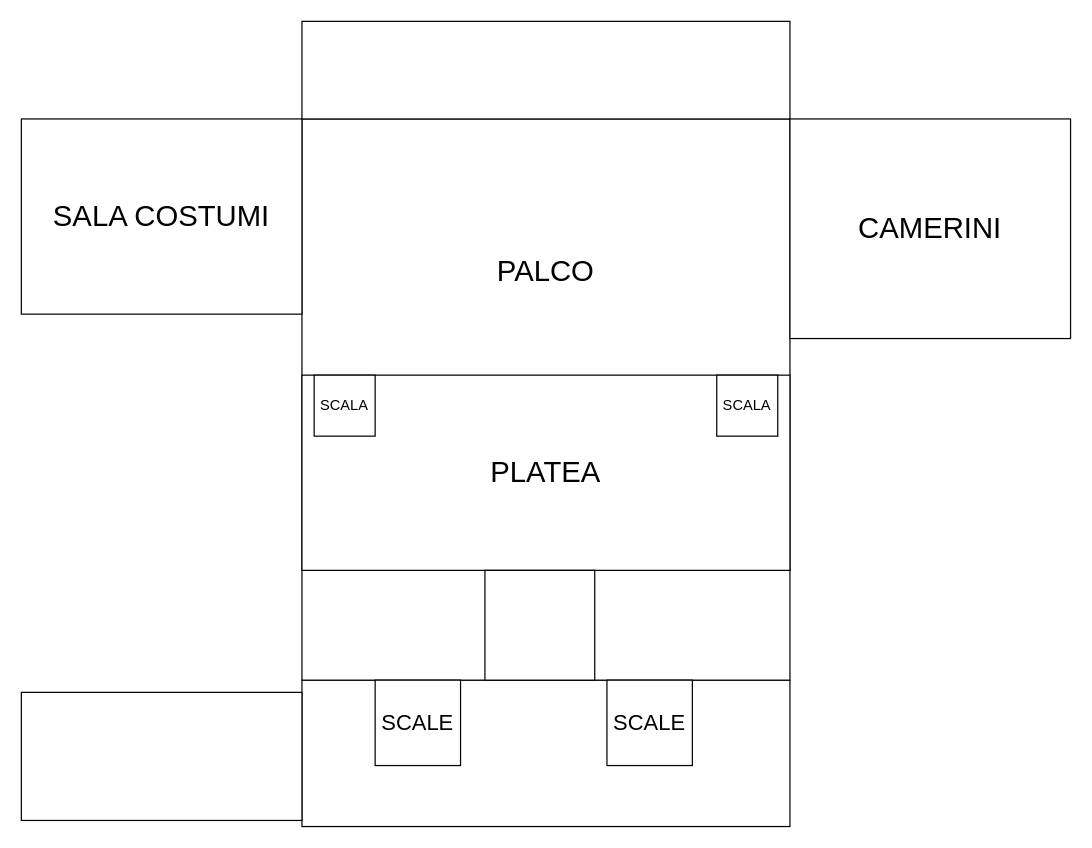
The diagram is 1092 pixels wide and 848 high, and some of its shapes have lost their labels. The centre of each missing label's shape, as x and y in pixels:
MAGAZZINO: (545,69)
REGIA: (539,624)
STANZA INIZIALE: (161,755)
